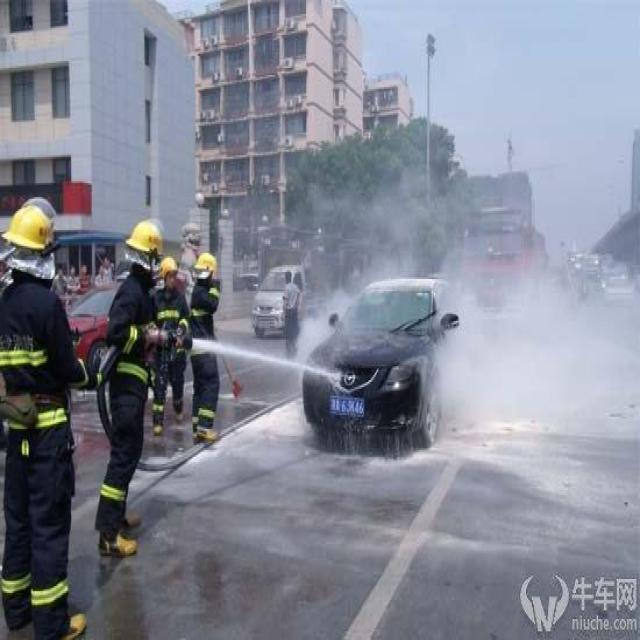Smoke: (302, 160, 640, 443)
